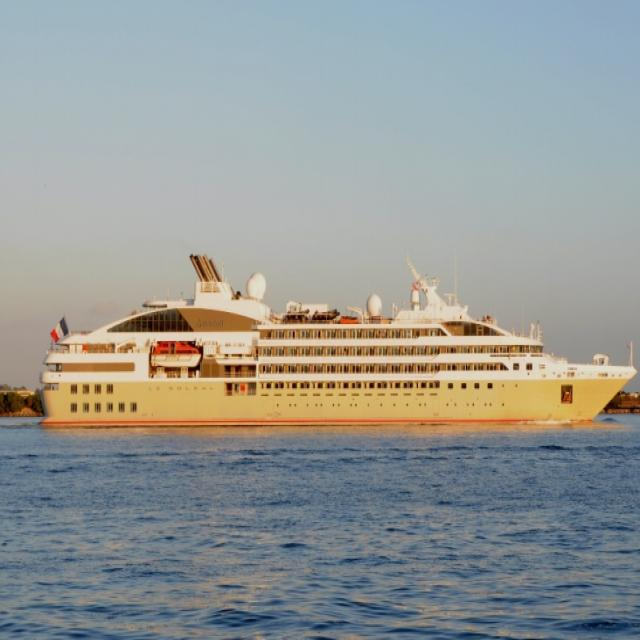cruises: (36, 252, 640, 437)
